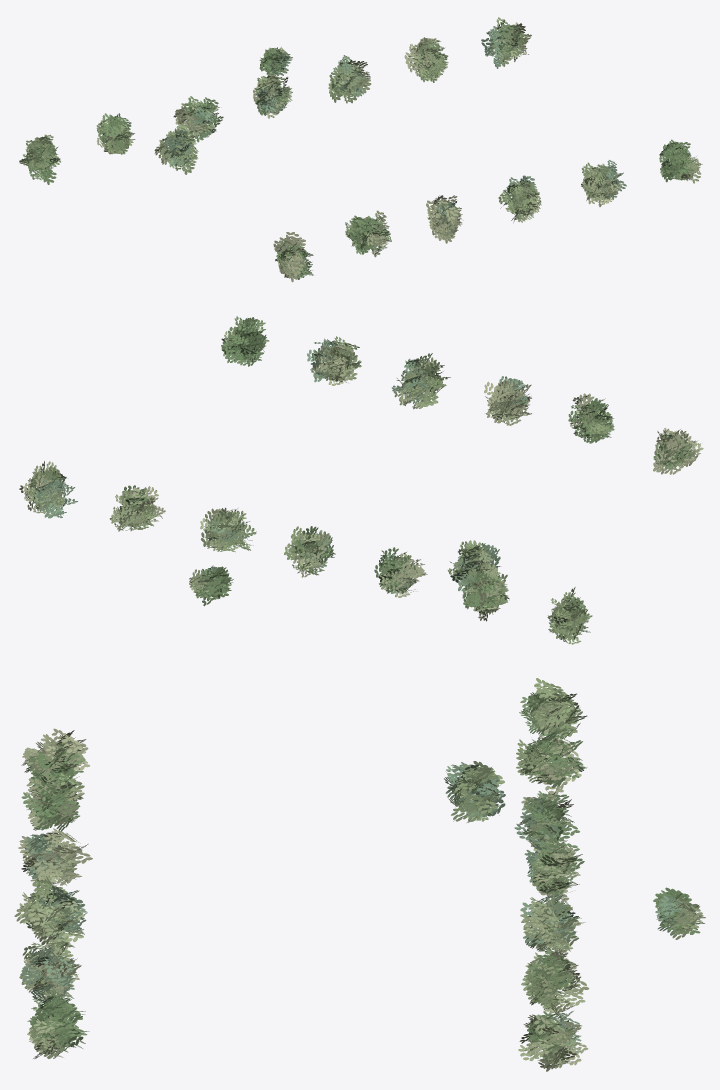
The model's file is campus-tree-1_-1-far.glb.
The picture shows the model from 3 angles, top to bottom: view 1: azimuth 30°, elevation 25°; view 2: azimuth 150°, elevation 25°; view 3: azimuth 270°, elevation 25°; orthographic projection. The views are drawn at different scales.
Parts seen in each view (by area): view 1: Campus leaf canopy; view 2: Campus leaf canopy; view 3: Campus leaf canopy.
Part boxes in pixels (box(x1,y1,x2,y2)): Campus leaf canopy: box(19, 17, 702, 282); Campus leaf canopy: box(19, 316, 703, 644); Campus leaf canopy: box(14, 678, 705, 1071).
Bounding box in the file's own units: 73.76 × 8.38 × 60.27.
Materials: 1 (1 with a texture image).
